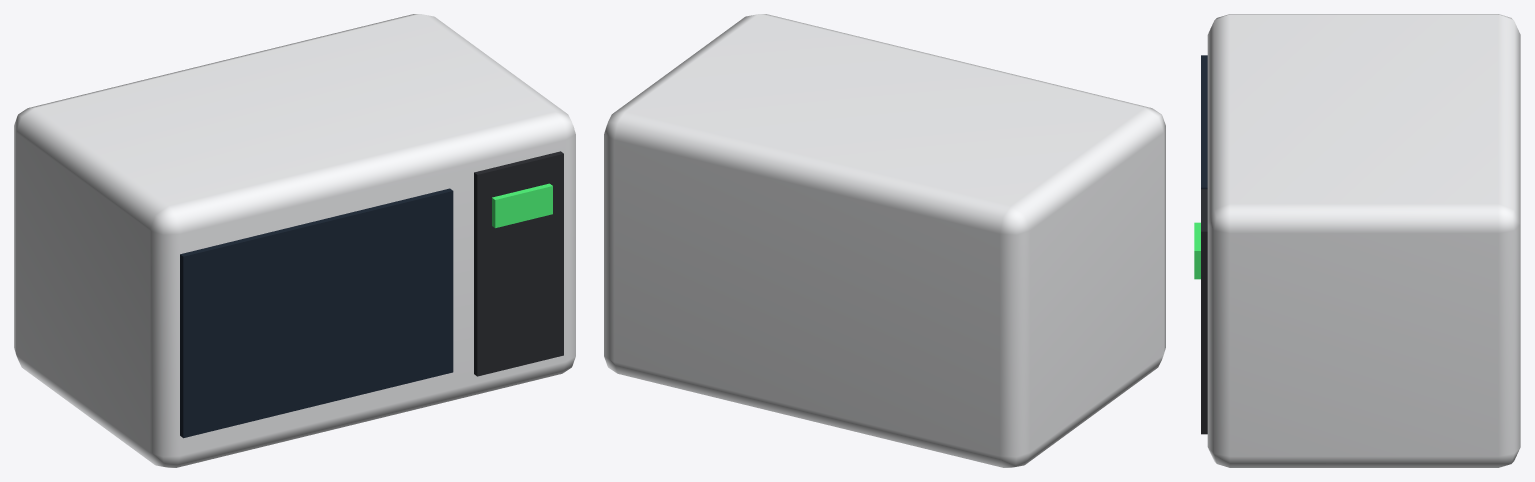
The model's file is Microwave.fbx.
3 views of the same model, side by side, from view 1: azimuth 30°, elevation 25°; view 2: azimuth 150°, elevation 25°; view 3: azimuth 270°, elevation 25° (orthographic).
Parts seen in each view (by area): view 1: Microwave; view 2: Microwave; view 3: Microwave.
Part boxes in pixels (box(x1,y1,x2,y2)): Microwave: box(14, 14, 575, 467); Microwave: box(604, 14, 1165, 467); Microwave: box(1194, 14, 1520, 467).
Size of the model in its own units: 2.2 by 1.3 by 1.46.
Materials: 1 (1 with a texture image).
